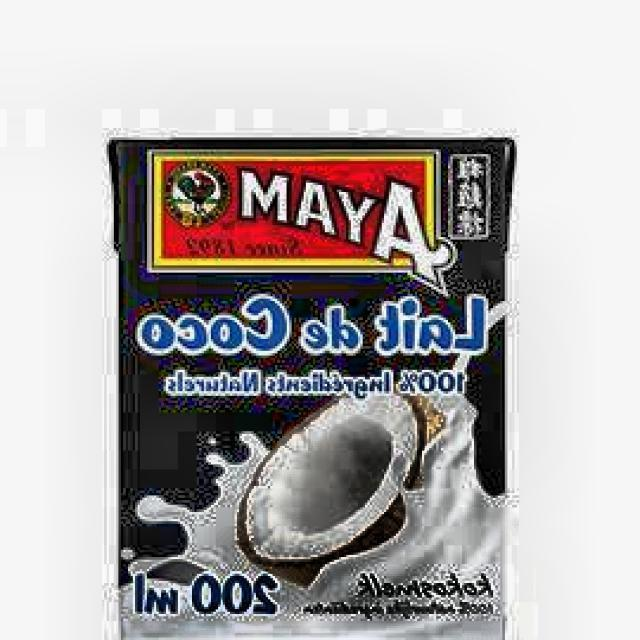cardboard: (109, 135, 517, 640)
